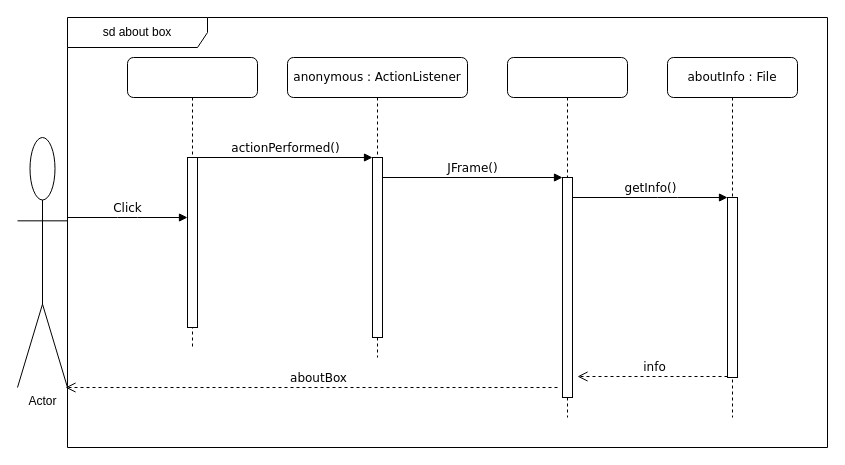
The diagram is 845 pixels wide and 465 high, and some of its shapes have lost their labels. The shapes that lost their labels are listed below. From the top down, each one's box as (x1, y1, x2, y2) in pixels, then its label:
(126, 56, 258, 348): myAbout : JButton
(506, 56, 628, 418): aboutBox : JFrame
